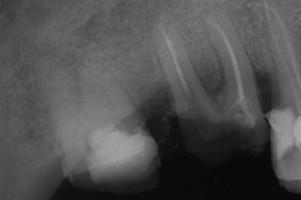Endo-Periodontal Lesion: (198, 56, 226, 97)
